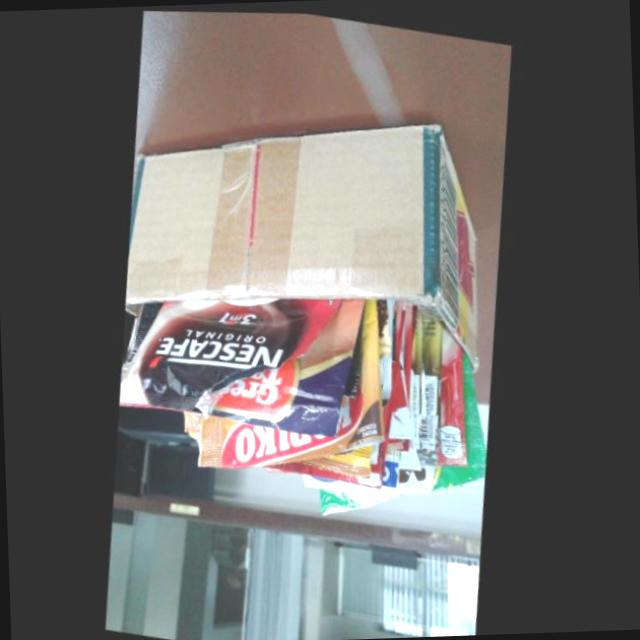carton: (128, 119, 479, 364)
goi_nhua_nho: (267, 296, 488, 507), (122, 294, 367, 430), (200, 295, 390, 463)
